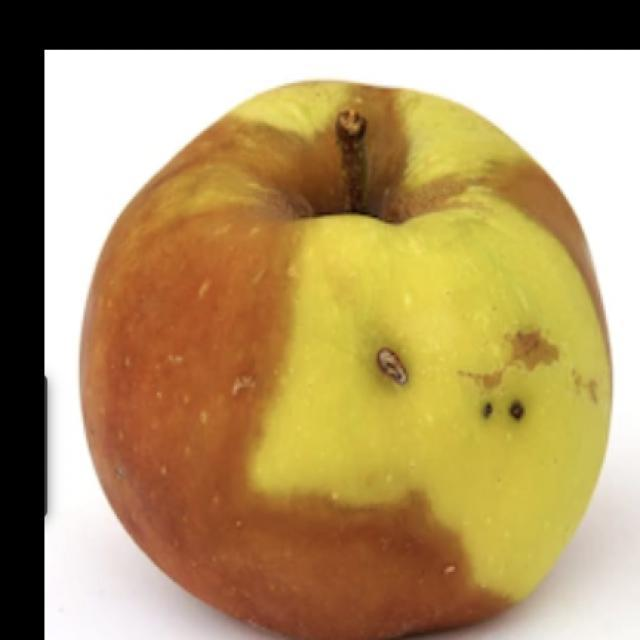Rotten: (82, 76, 617, 640)
